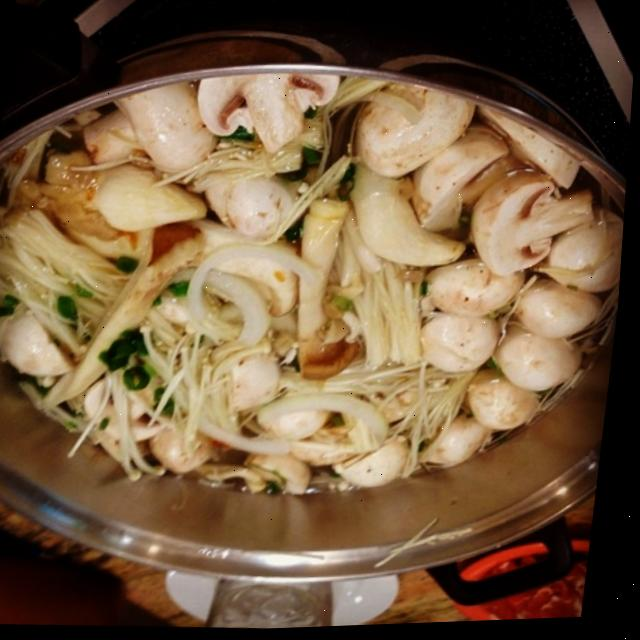汤锅炖物: (0, 18, 637, 619)
